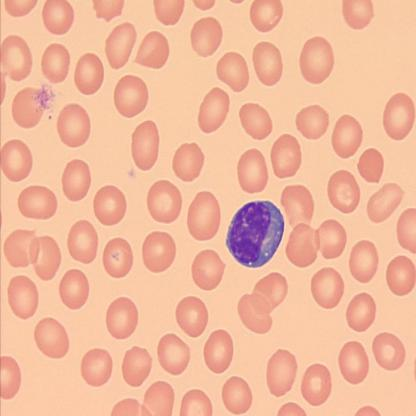Atypical lymphocyte: (226, 199, 286, 270)
